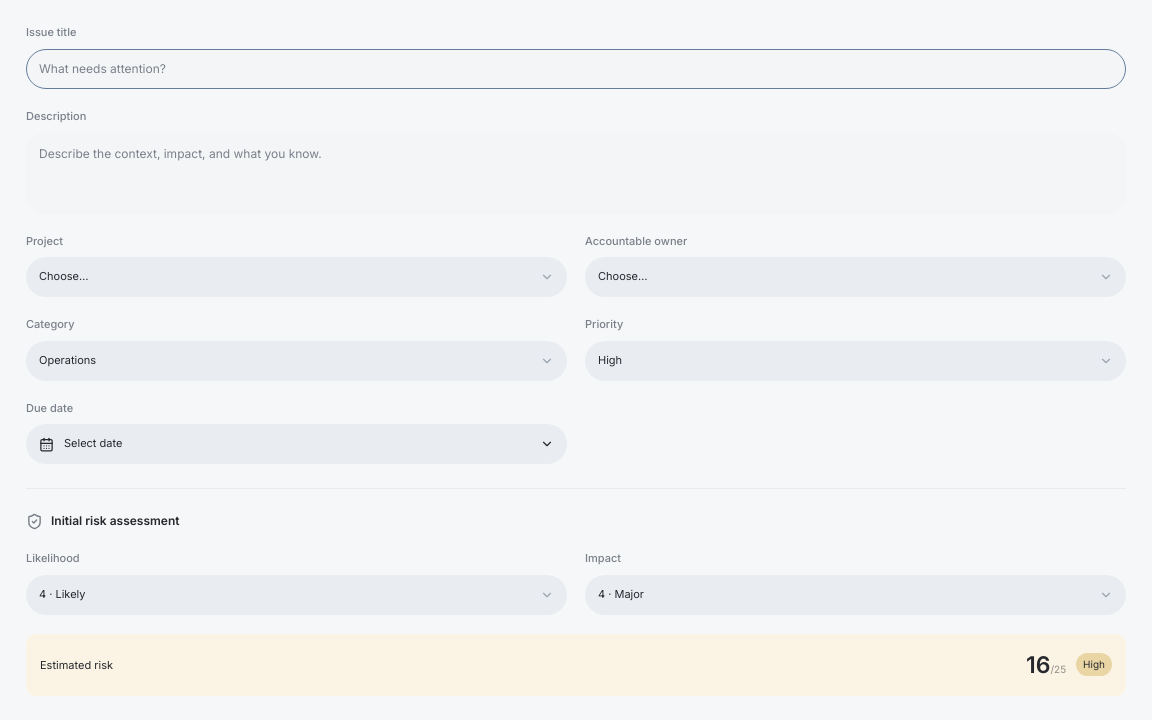
Test case: Issue validation › previews selected risk ratings without claiming server confirmation
The width and height of the screenshot is (1152, 720).
Click the dropdown named "Likelihood". click: click(62, 594)
box: [26,575,567,615]
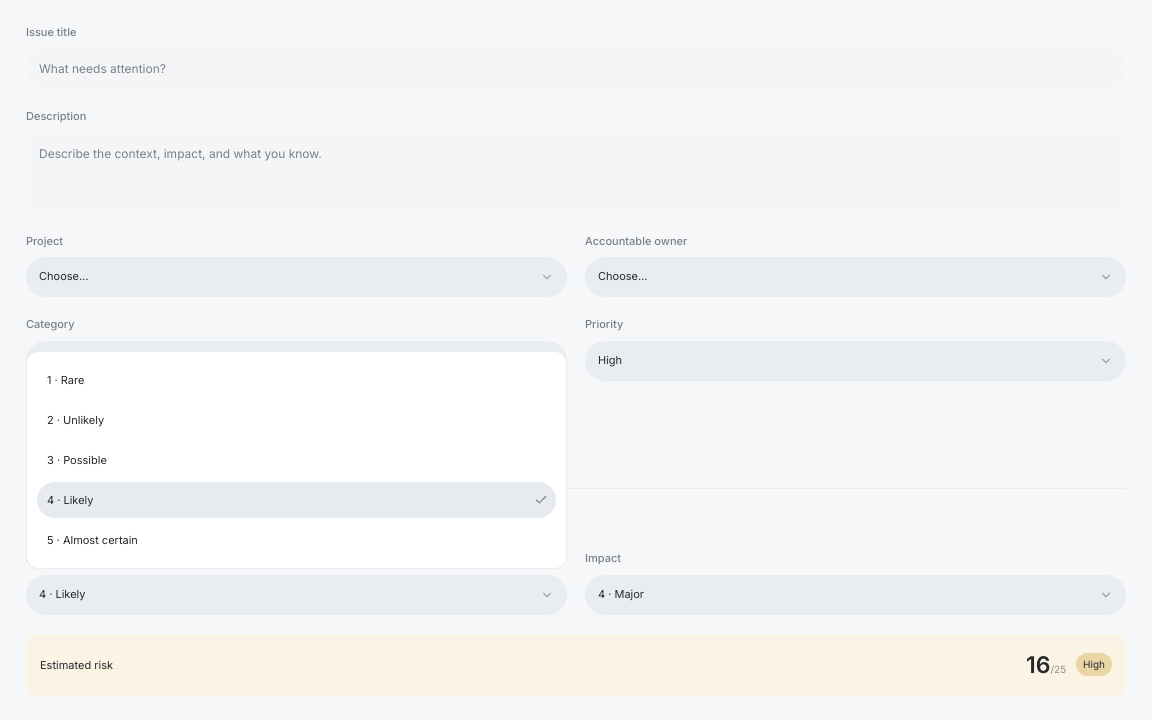
Click the option "5 · Almost certain". click: click(92, 540)
box: [47,533,138,547]
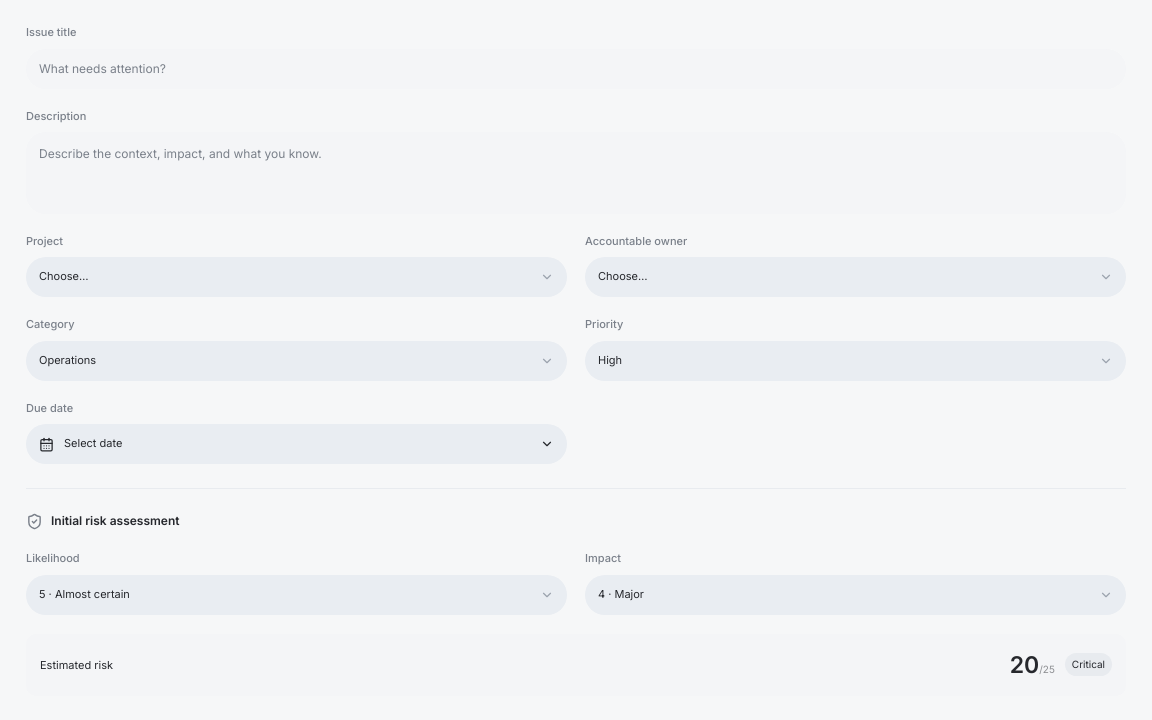
Expected: the text "Estimated risk" is shown, [40,657,113,673]
Now the text "Critical" is shown, box [1065,653,1112,676]
